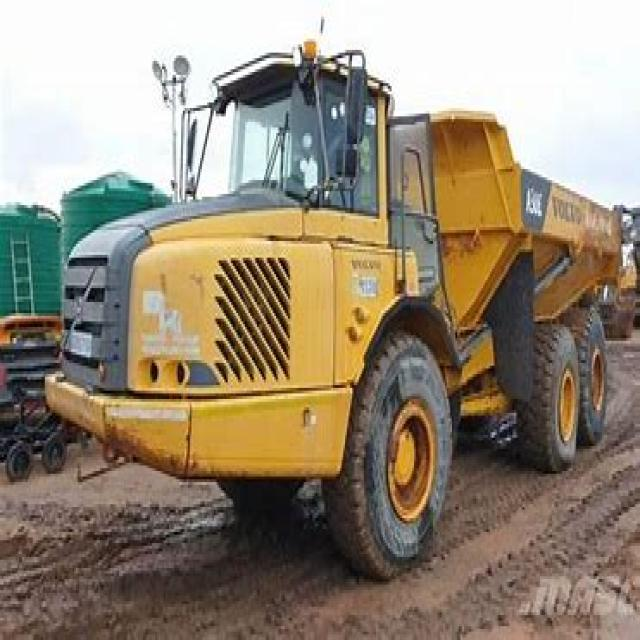dump_truck: (47, 36, 621, 585)
